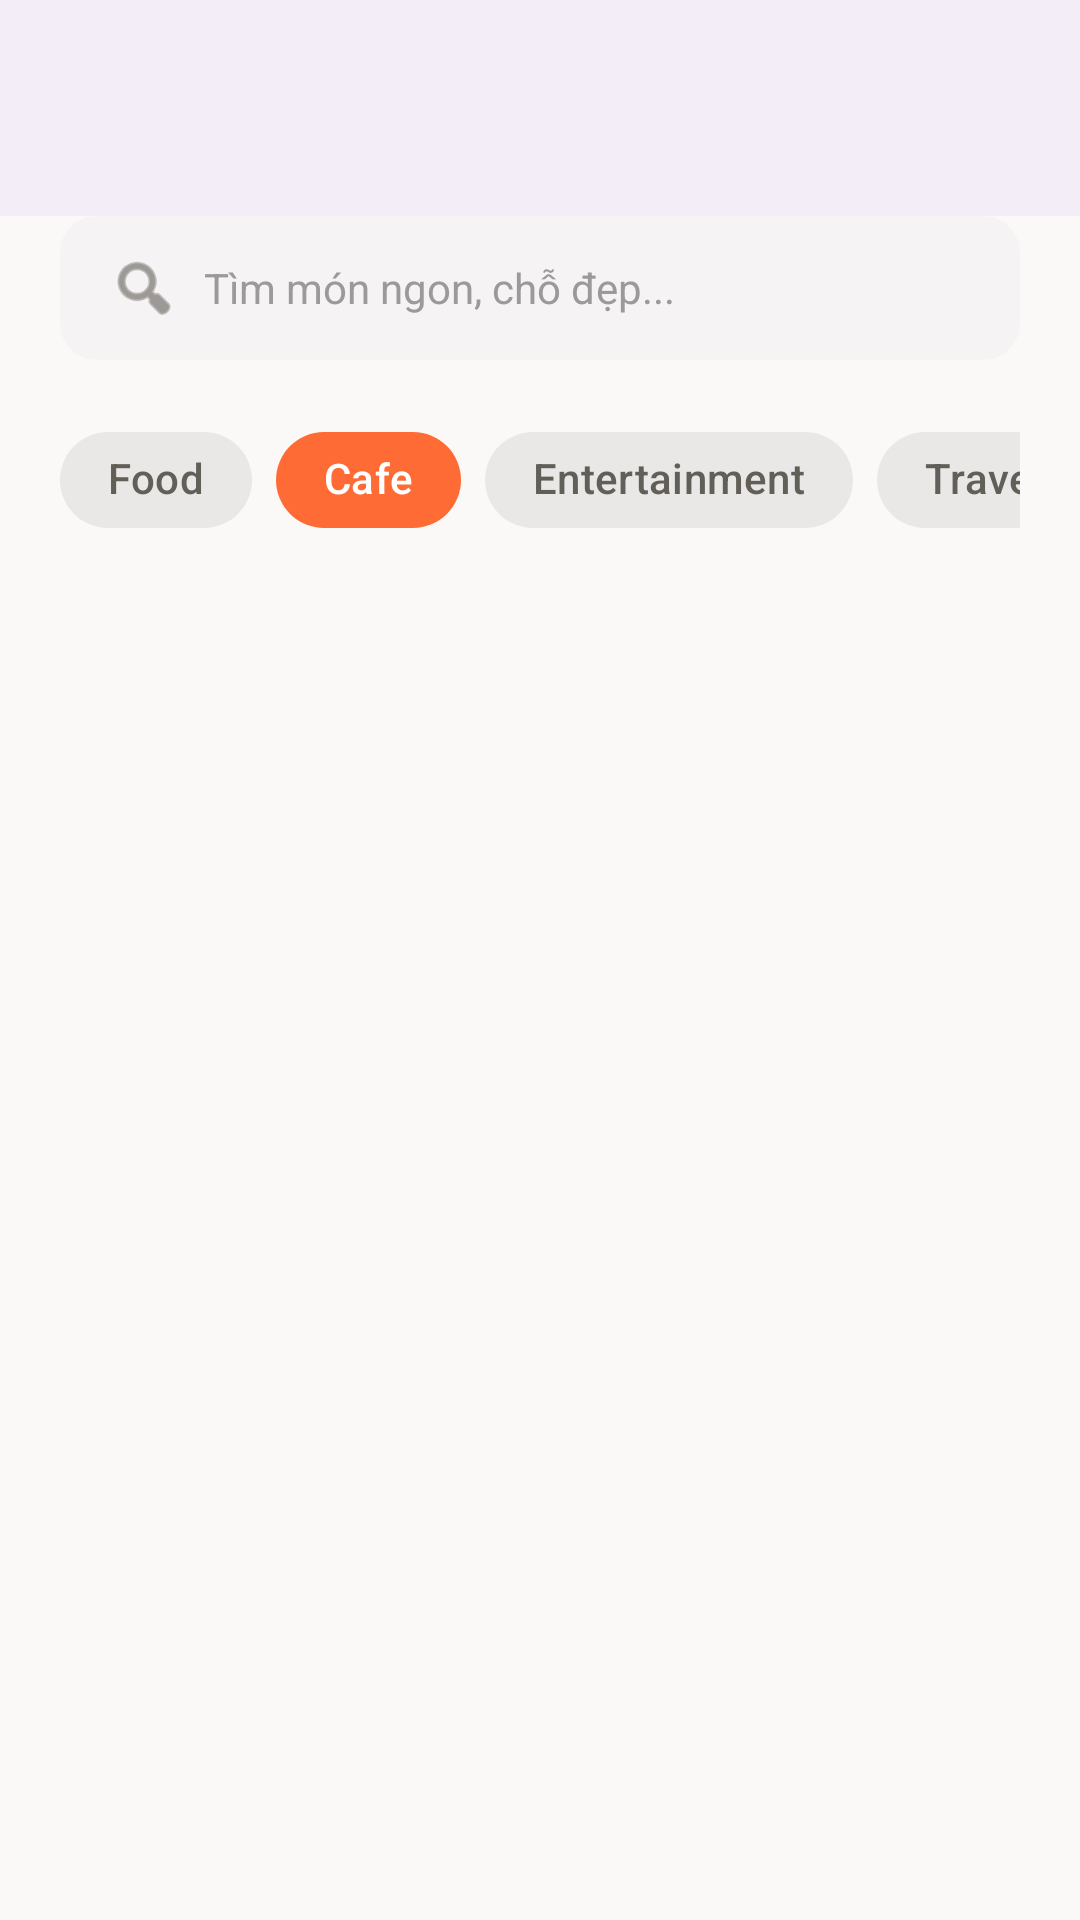

Screen size 1080w x 1920h. Icon name, then its box in pixels as (x1, y1, x2, y2):
search: (117, 262, 170, 315)
